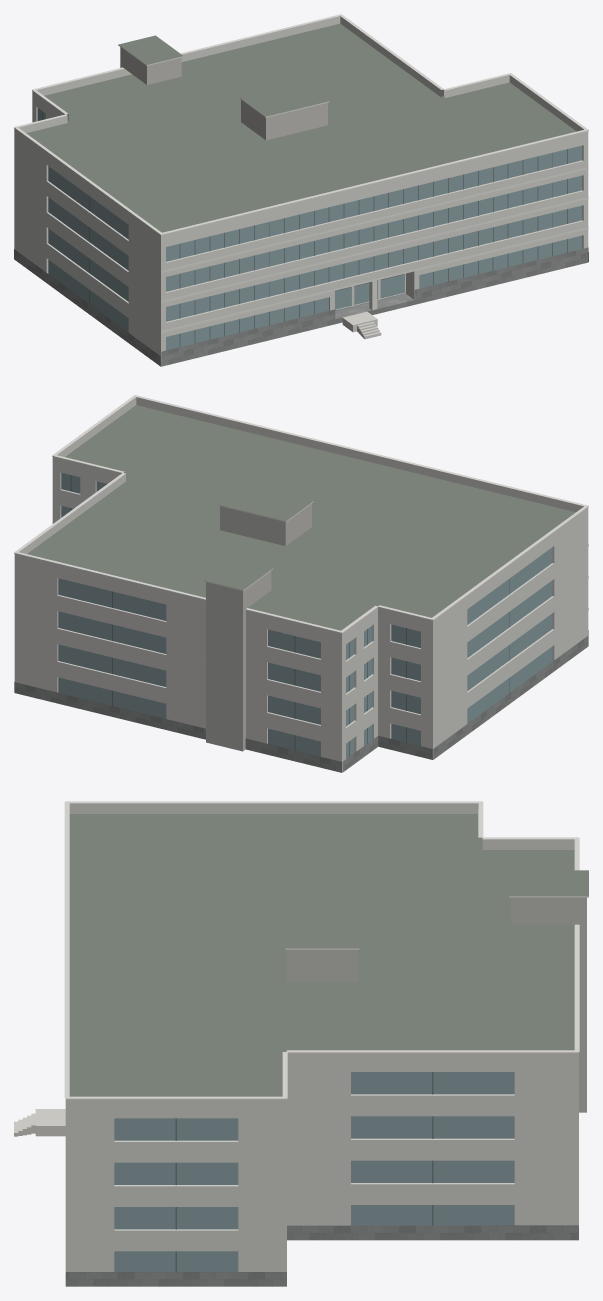
The picture shows the model from 3 angles, top to bottom: view 1: azimuth 30°, elevation 25°; view 2: azimuth 150°, elevation 25°; view 3: azimuth 270°, elevation 25°; orthographic projection. The views are drawn at different scales.
Parts seen in each view (by area): view 1: b81__roof, b81__wall, b81__glass, b81__parapet, b81__base, b81__trim, b81__wall2, b81__frame, b81__entranceStair; view 2: b81__roof, b81__wall, b81__glass, b81__parapet, b81__wall2, b81__base, b81__trim, b81__frame; view 3: b81__roof, b81__wall, b81__glass, b81__parapet, b81__base, b81__trim, b81__wall2, b81__entranceStair.
Part boxes in pixels (bbox=[...]): b81__roof: bbox=[26, 23, 585, 366]; b81__wall: bbox=[14, 97, 588, 365]; b81__glass: bbox=[37, 108, 582, 350]; b81__parapet: bbox=[14, 16, 588, 241]; b81__base: bbox=[14, 247, 588, 366]; b81__trim: bbox=[14, 14, 588, 332]; b81__wall2: bbox=[120, 47, 327, 140]; b81__frame: bbox=[42, 111, 567, 346]; b81__entranceStair: bbox=[342, 311, 381, 339]; b81__roof: bbox=[27, 405, 575, 630]; b81__wall: bbox=[14, 464, 588, 772]; b81__glass: bbox=[58, 472, 552, 758]; b81__parapet: bbox=[14, 397, 588, 640]; b81__wall2: bbox=[206, 504, 311, 751]; b81__base: bbox=[14, 630, 588, 772]; b81__trim: bbox=[14, 395, 588, 633]; b81__frame: bbox=[70, 475, 509, 756]; b81__roof: bbox=[69, 814, 588, 1096]; b81__wall: bbox=[65, 1062, 578, 1271]; b81__glass: bbox=[114, 1072, 514, 1271]; b81__parapet: bbox=[65, 803, 578, 1108]; b81__base: bbox=[65, 1225, 578, 1286]; b81__trim: bbox=[64, 801, 588, 1099]; b81__wall2: bbox=[287, 897, 586, 1112]; b81__entranceStair: bbox=[14, 1109, 65, 1136].
Bounding box in the file's own units: 51.79 × 18.22 × 42.32.
Materials: 11 (1 with a texture image).
